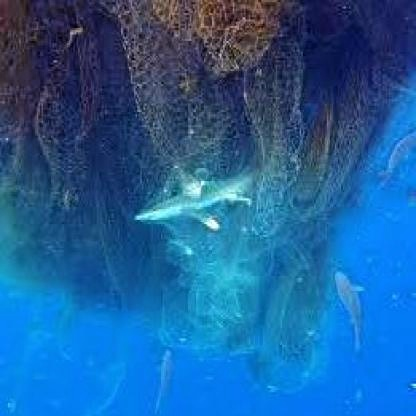net: (8, 2, 416, 196)
